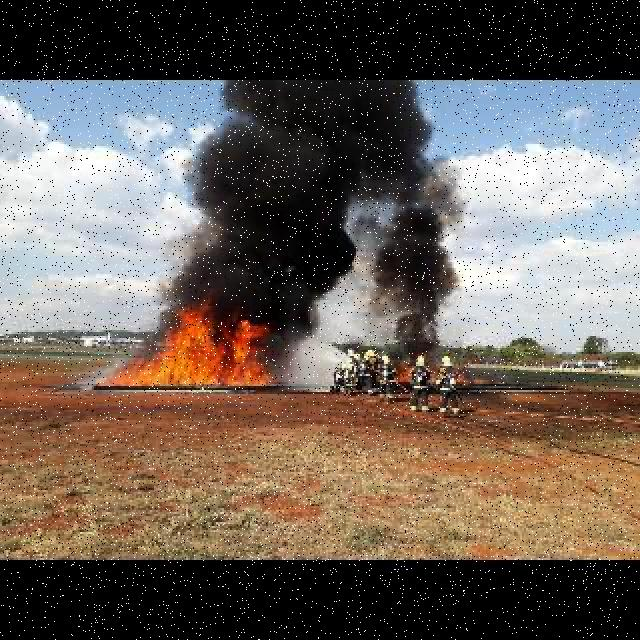fire: (112, 312, 278, 389)
smoke: (189, 82, 460, 356)
